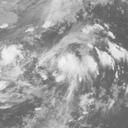cyclone: (37, 34, 98, 89)
